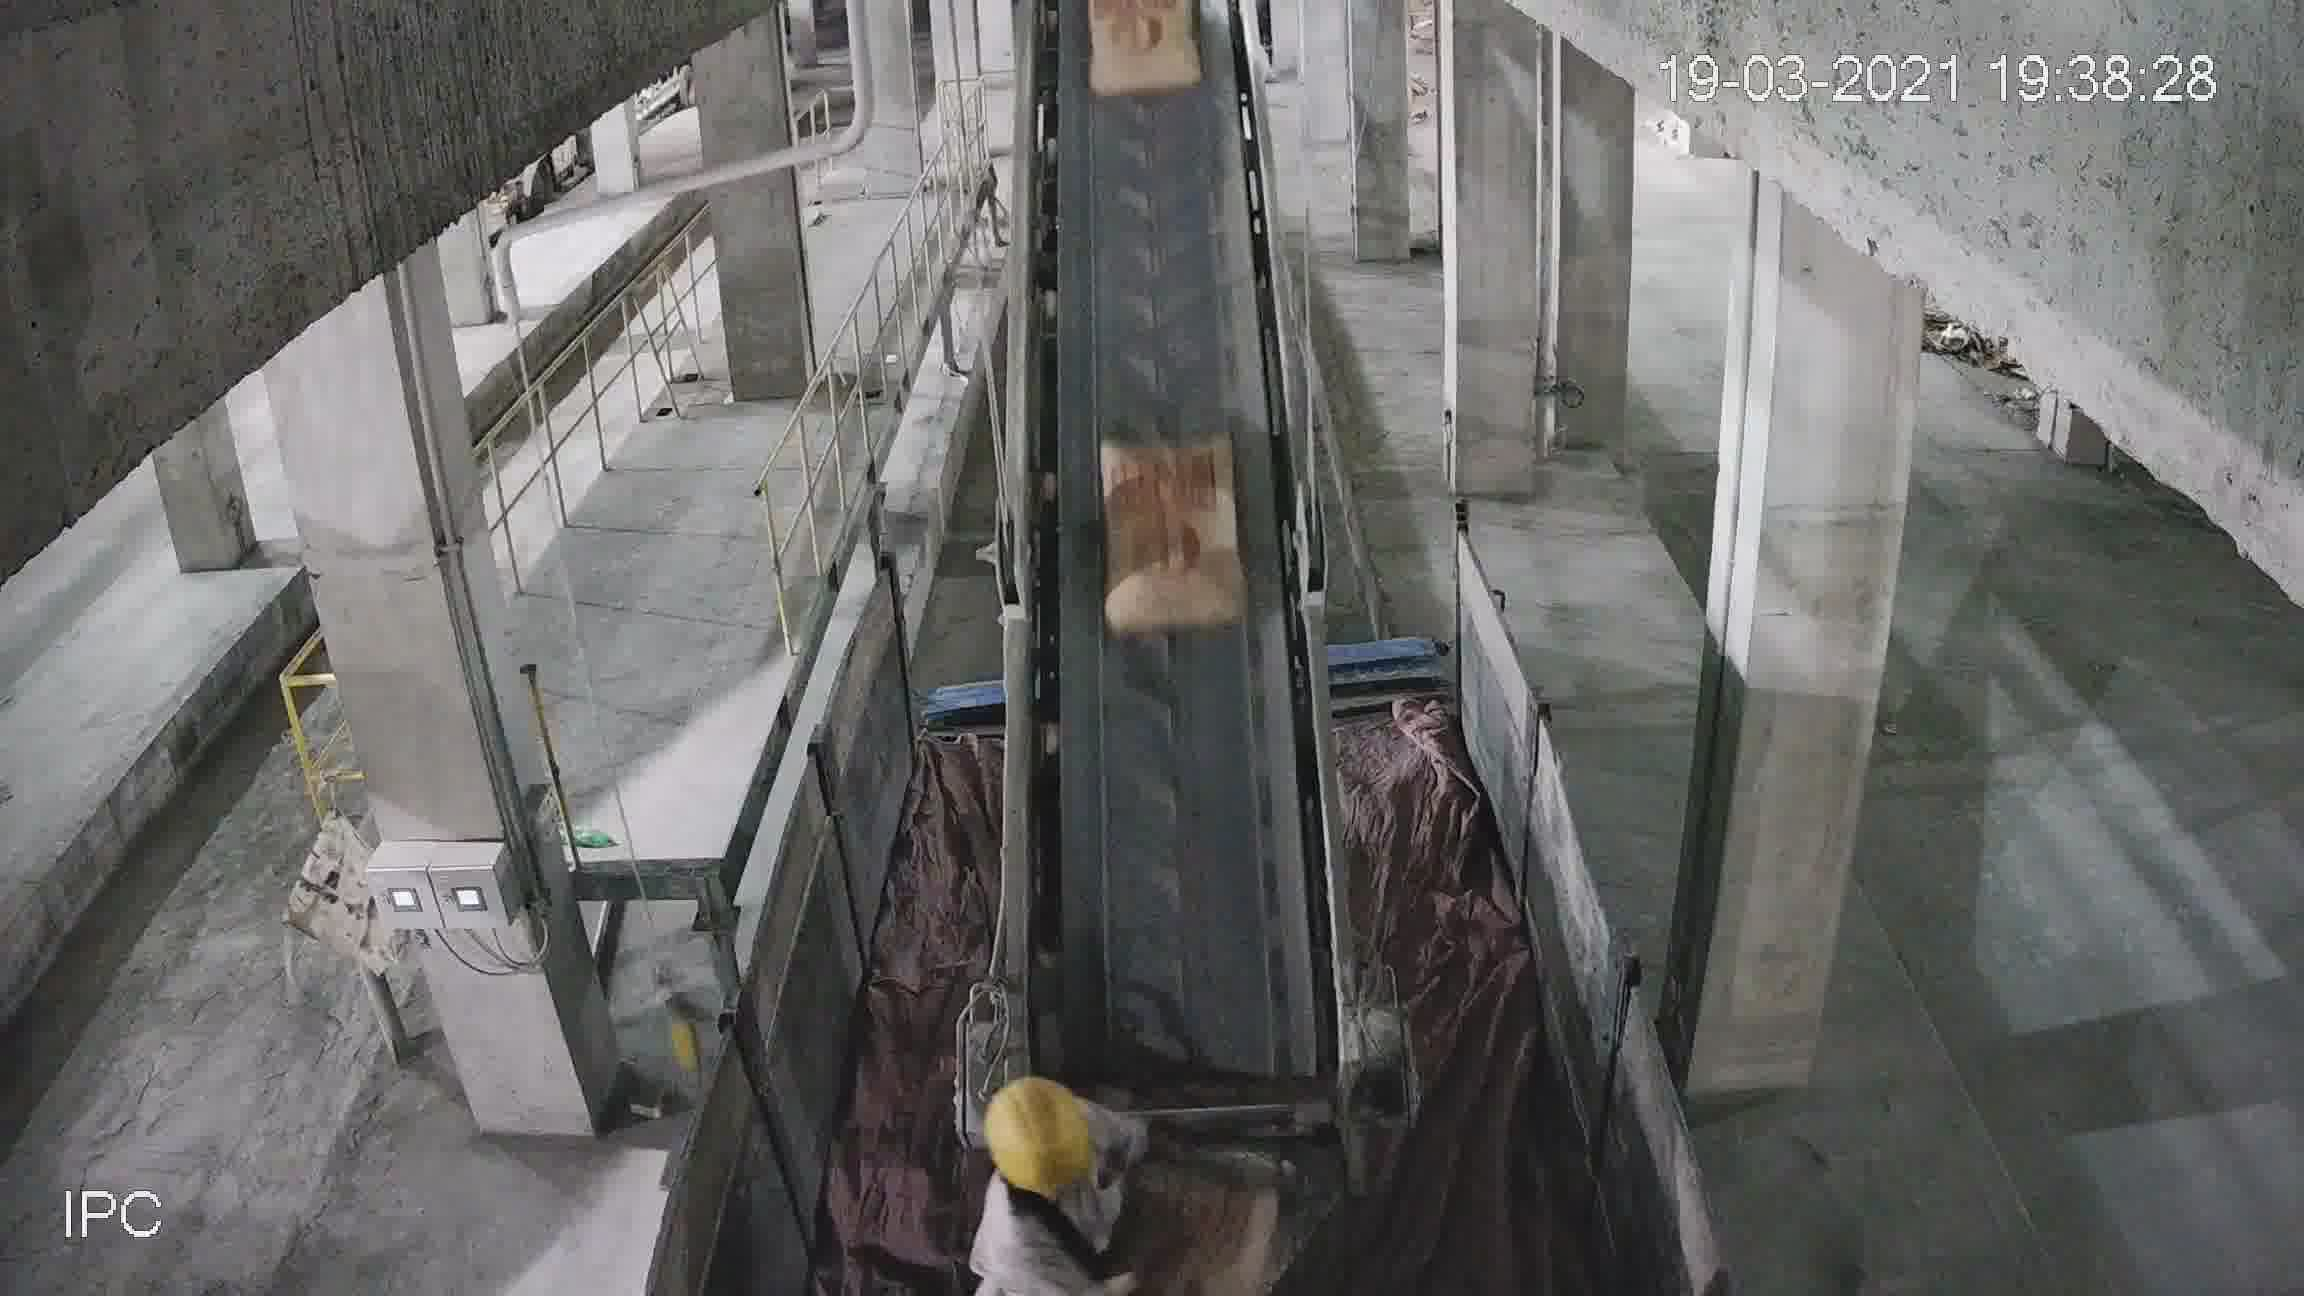bag: (1105, 441, 1242, 625), (1089, 9, 1203, 85)
belt: (1021, 139, 1320, 1141)
